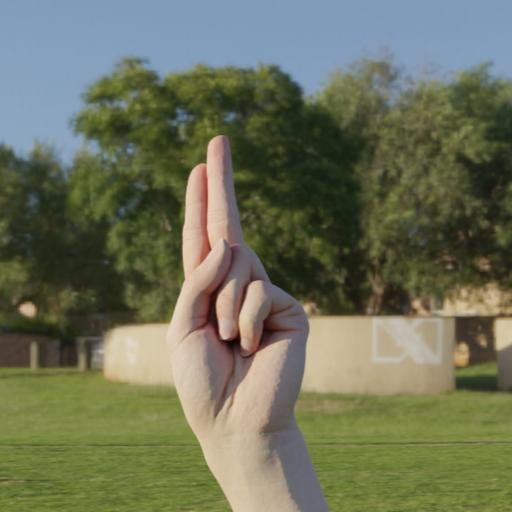U: (154, 124, 406, 494)
